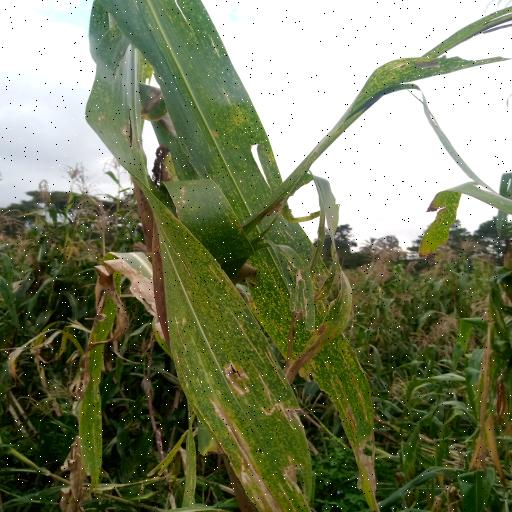Corn_Brown_Spots: (94, 0, 362, 512)
